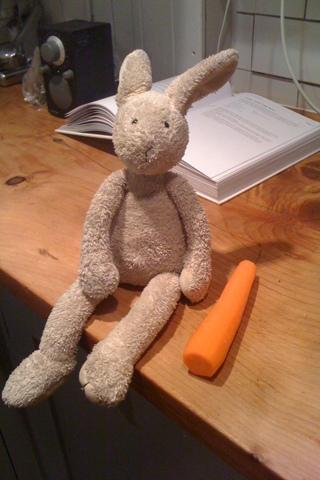carrot: (182, 260, 256, 378)
